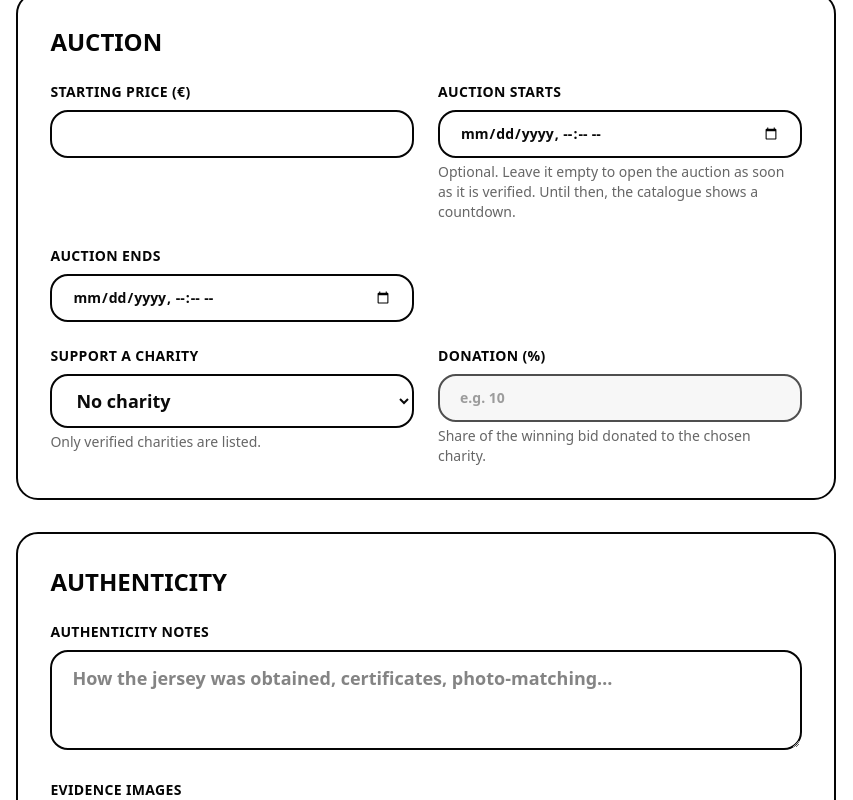
Test: NewListingView: charity and donation › suggests 10% when a charity is chosen and clears it when "No charity" is chosen again
(page scrolled)
Step 1. Select "🇵🇹 Play for All (Portugal)" in the dropdown labelled "Support a charity" → (232, 401), box [50, 374, 414, 428]
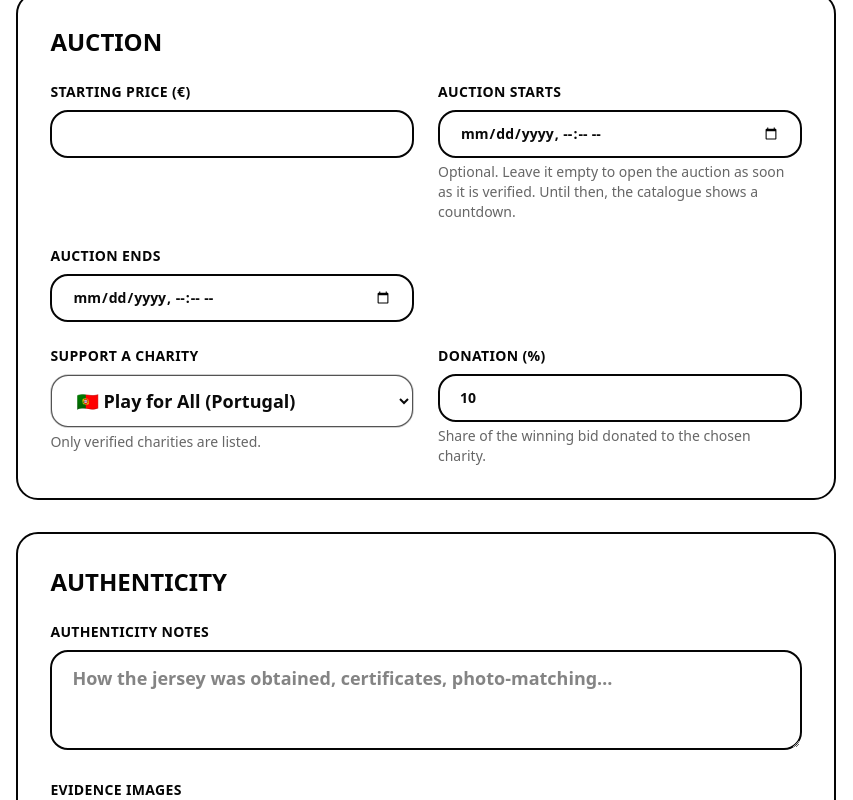
Now the number field labelled "Donation (%)" is enabled, box [438, 374, 802, 422]
Now the number field labelled "Donation (%)" holds "10", box [438, 374, 802, 422]
Step 2. Select "No charity" in the dropdown labelled "Support a charity" → (232, 401), box [50, 374, 414, 428]
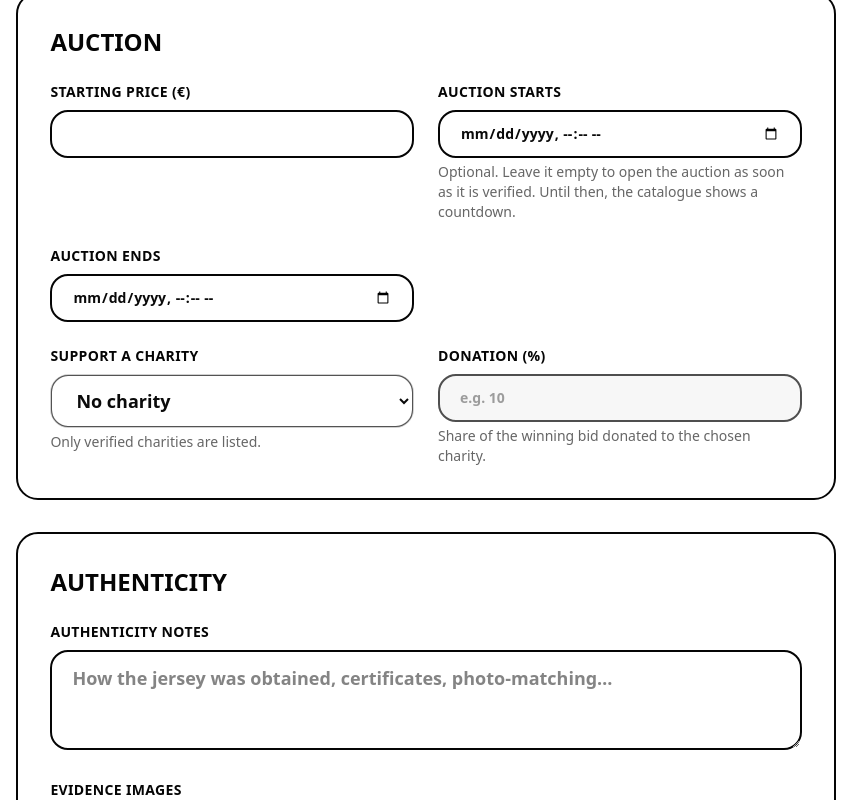
Now the number field labelled "Donation (%)" is disabled, box [438, 374, 802, 422]
Now the number field labelled "Donation (%)" is not empty, box [438, 374, 802, 422]
